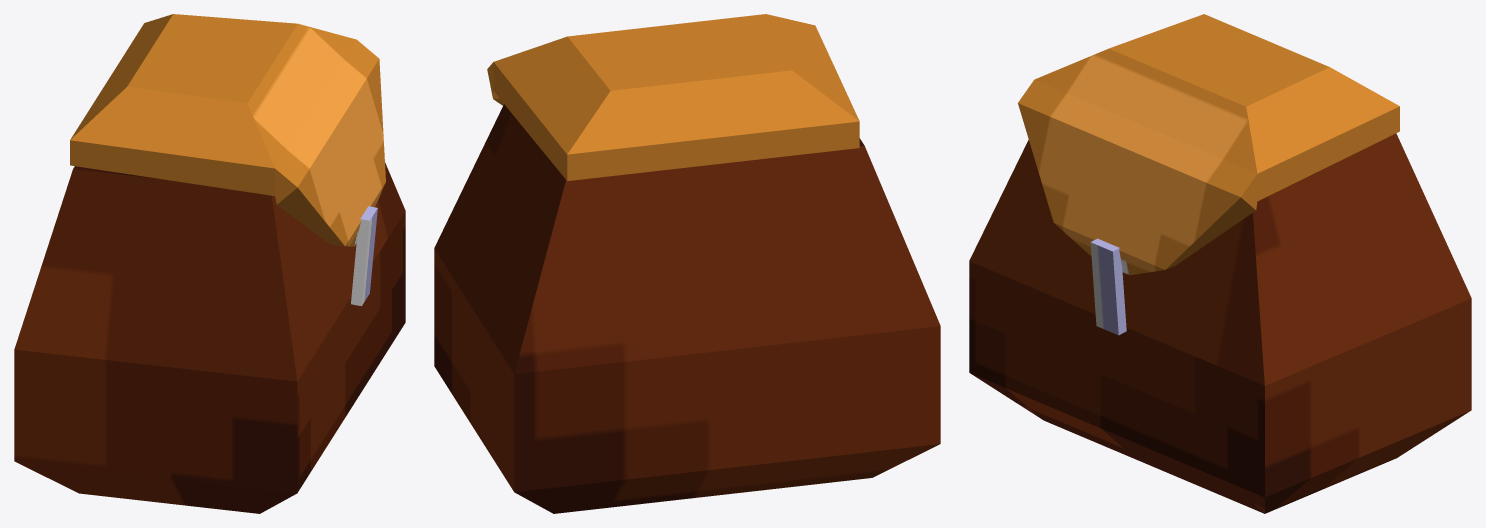
File: Backpack.fbx
3 views of the same model, side by side, from view 1: azimuth 30°, elevation 25°; view 2: azimuth 150°, elevation 25°; view 3: azimuth 270°, elevation 25° (orthographic). The views are drawn at different scales.
Parts seen in each view (by area): view 1: Cube; view 2: Cube; view 3: Cube.
Part boxes in pixels (x1,y1,x2,y2): Cube: (14,14,405,513); Cube: (434,14,940,513); Cube: (969,14,1471,513).
Bounding box in the file's own units: 457 × 383 × 457.
